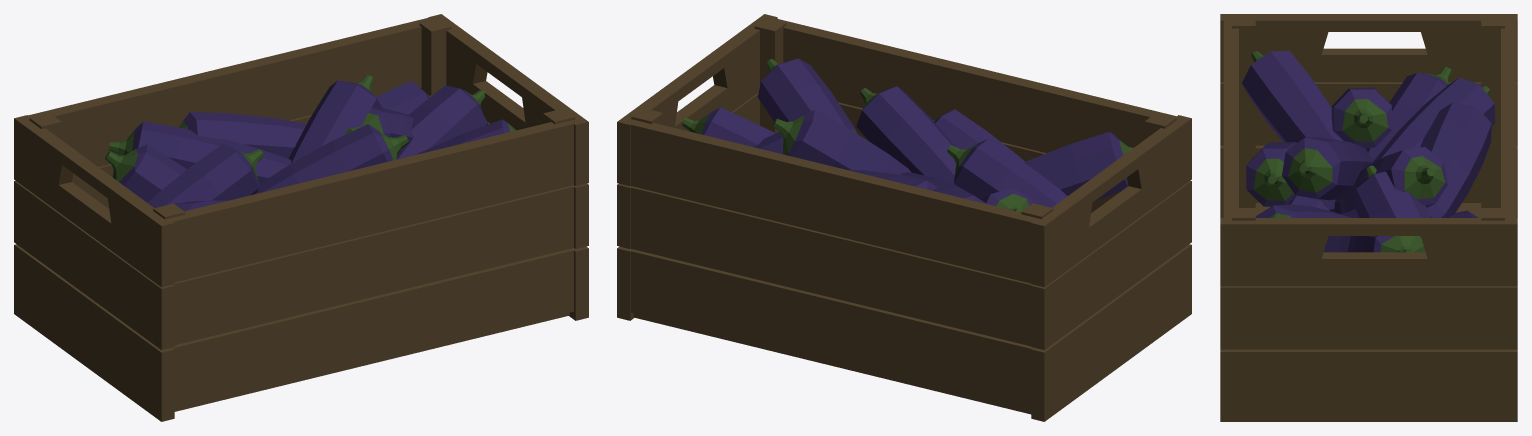
Rendered from WoodenCrateEggplant_1.fbx.
3 renders of one model, left to right at view 1: azimuth 30°, elevation 25°; view 2: azimuth 150°, elevation 25°; view 3: azimuth 270°, elevation 25°, orthographic.
Parts seen in each view (by area): view 1: WoodenCrateEggplant_1; view 2: WoodenCrateEggplant_1; view 3: WoodenCrateEggplant_1.
Part boxes in pixels (box(x1,y1,x2,y2)): WoodenCrateEggplant_1: box(14, 14, 588, 421); WoodenCrateEggplant_1: box(617, 14, 1191, 421); WoodenCrateEggplant_1: box(1220, 14, 1517, 421).
Bounding box in the file's own units: 110 × 49.28 × 65.61.
